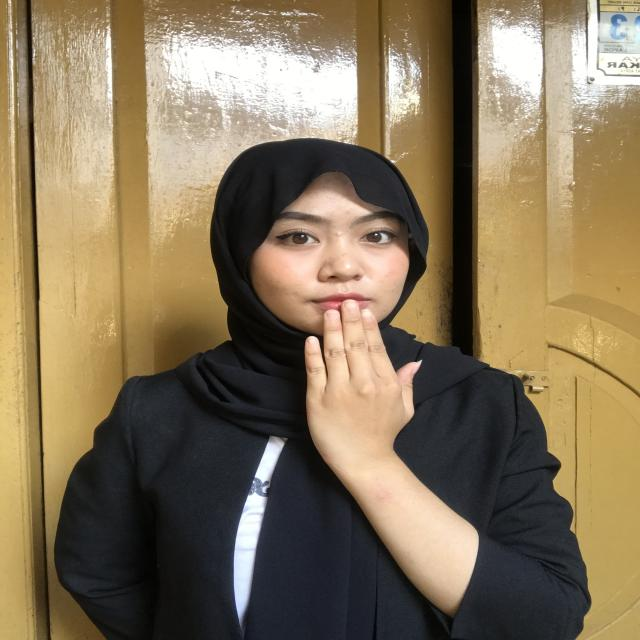ganteng: (279, 282, 419, 470)
